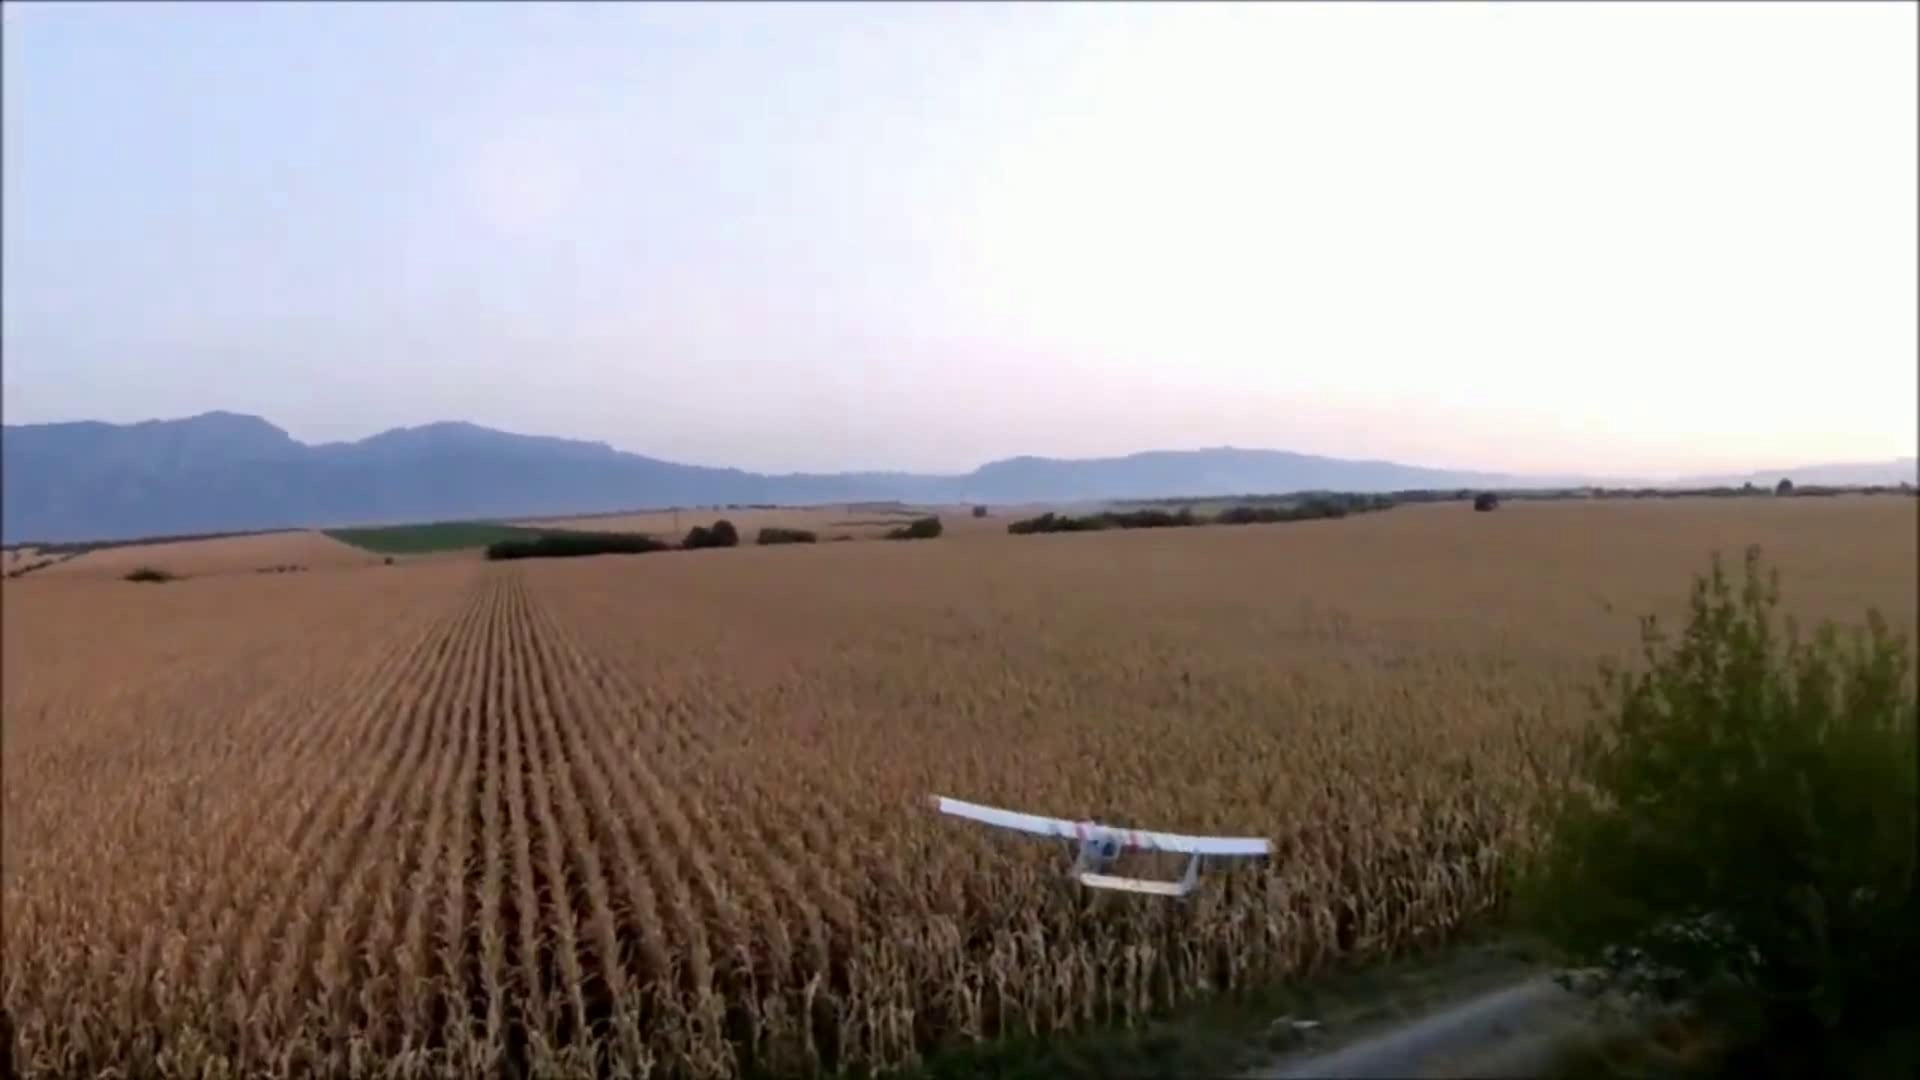airplane: (928, 793, 1274, 905)
